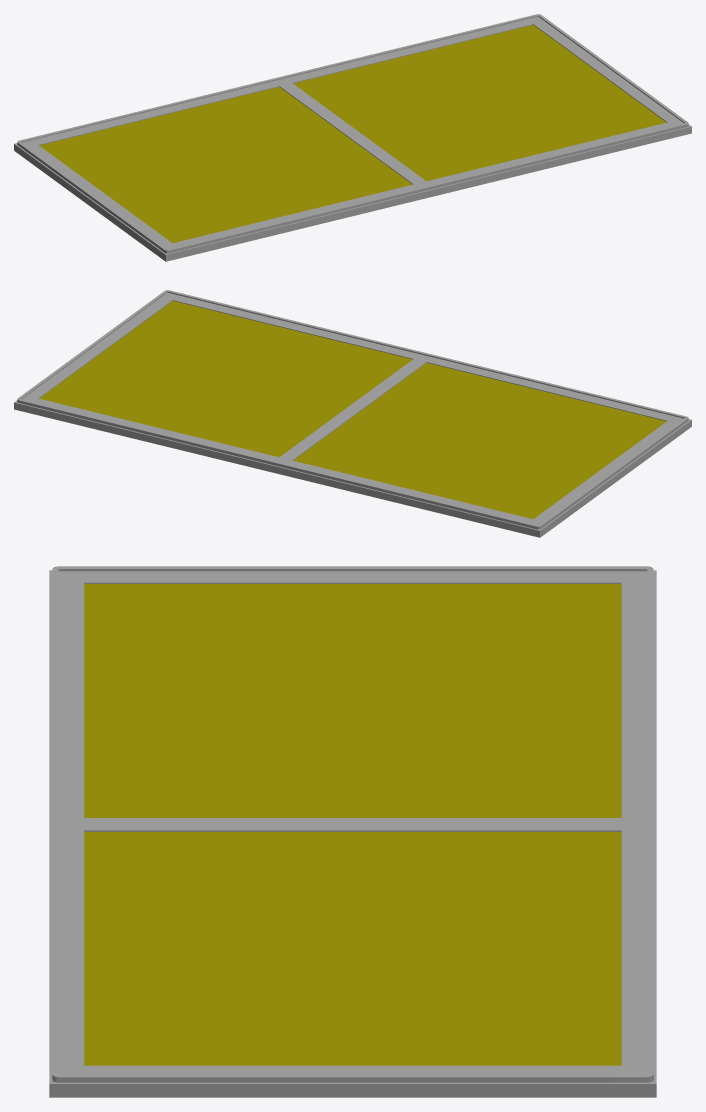
The model's file is SM_Ceiling_05_A.fbx.
The picture shows the model from 3 angles, top to bottom: view 1: azimuth 30°, elevation 25°; view 2: azimuth 150°, elevation 25°; view 3: azimuth 270°, elevation 25°; orthographic projection. The views are drawn at different scales.
Parts seen in each view (by area): view 1: polySurface4049; view 2: polySurface4049; view 3: polySurface4049.
Part boxes in pixels (left/top/right/bottom): polySurface4049: left=14, top=14, right=691, bottom=261; polySurface4049: left=14, top=290, right=691, bottom=537; polySurface4049: left=49, top=566, right=656, bottom=1097.
Size of the model in its own units: 400 by 7 by 200.
